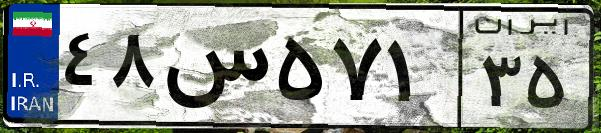1: (385, 28, 445, 110)
3: (475, 38, 525, 113)
4: (57, 26, 110, 100)
5: (270, 28, 330, 110), (525, 38, 570, 115)
7: (330, 28, 385, 110)
8: (110, 28, 158, 98)
س: (158, 20, 270, 120)
